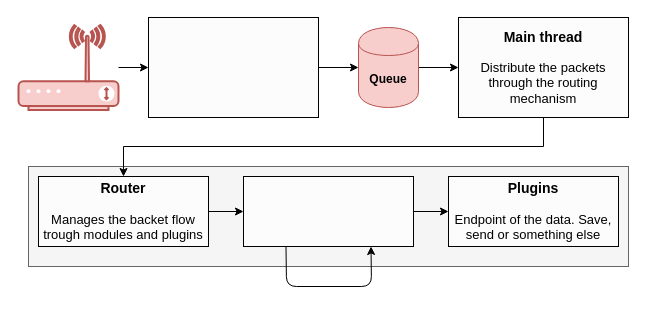
The diagram is 646 pixels wide and 312 high, and some of its shapes have lost their labels. Here are the shapes that lost their labels. From the top down, the centre of each, then its label:
At point 233,67: "Receive thread Receive the data from boswatch client and put it into an queue".
At point 328,211: "Modules Can filter oder modifcate the data in the backet".
